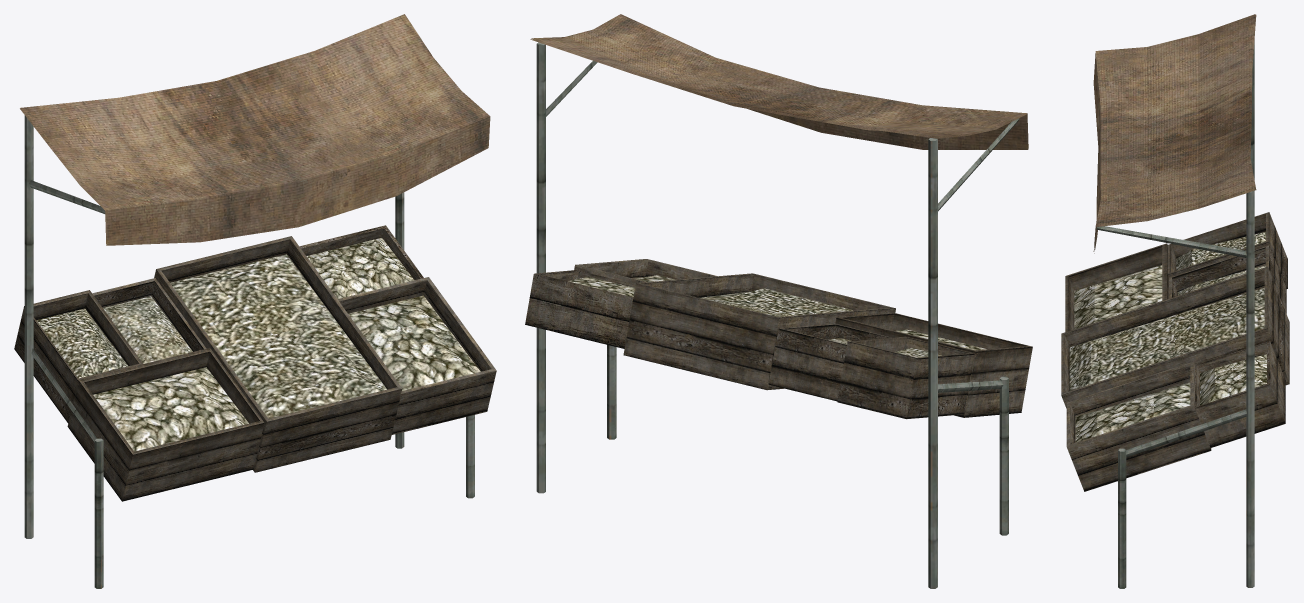
The model's file is frn_tato_fruit_stand_sml_s01_l0.fbx.
3 renders of one model, left to right at view 1: azimuth 30°, elevation 25°; view 2: azimuth 150°, elevation 25°; view 3: azimuth 270°, elevation 25°, orthographic. The views are drawn at different scales.
Visible parts, largest first — view 1: mesh_node; view 2: mesh_node; view 3: mesh_node.
Boxes of the visible parts, left/top/right/bottom form: mesh_node: left=14, top=14, right=496, bottom=588; mesh_node: left=525, top=14, right=1032, bottom=588; mesh_node: left=1061, top=14, right=1289, bottom=588.
Size of the model in its own units: 2.38 by 2.53 by 1.31.
